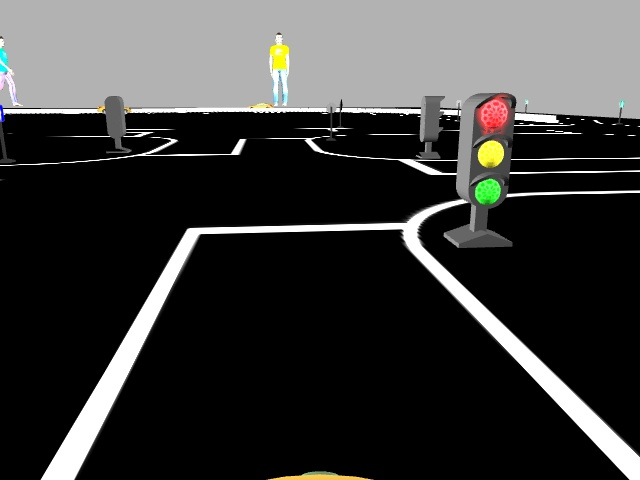TrafficLight: (455, 90, 517, 206)
